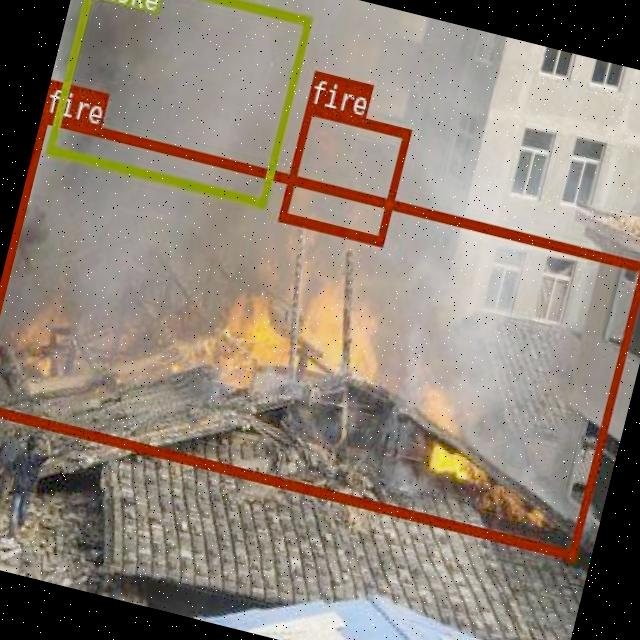fire: (0, 110, 640, 557), (276, 102, 411, 244)
smoke: (44, 0, 311, 206)
